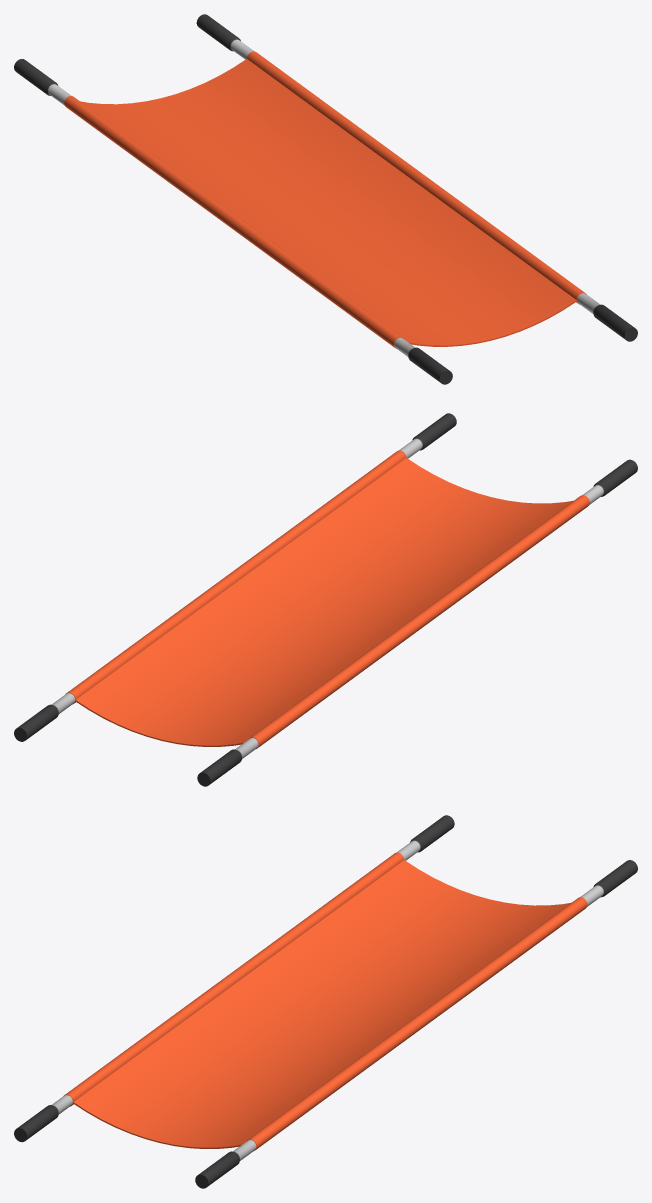
Rendered from Stretcher.fbx.
The picture shows the model from 3 angles, top to bottom: view 1: azimuth 30°, elevation 25°; view 2: azimuth 150°, elevation 25°; view 3: azimuth 330°, elevation 25°; orthographic projection.
Parts seen in each view (by area): view 1: Stretcher; view 2: Stretcher; view 3: Stretcher.
Part boxes in pixels (x1,y1,x2,y2): Stretcher: (14, 14, 637, 384); Stretcher: (14, 413, 637, 786); Stretcher: (14, 815, 637, 1188).
Bounding box in the file's own units: 73.39 × 9.55 × 278.
1 material, 1 textured.
